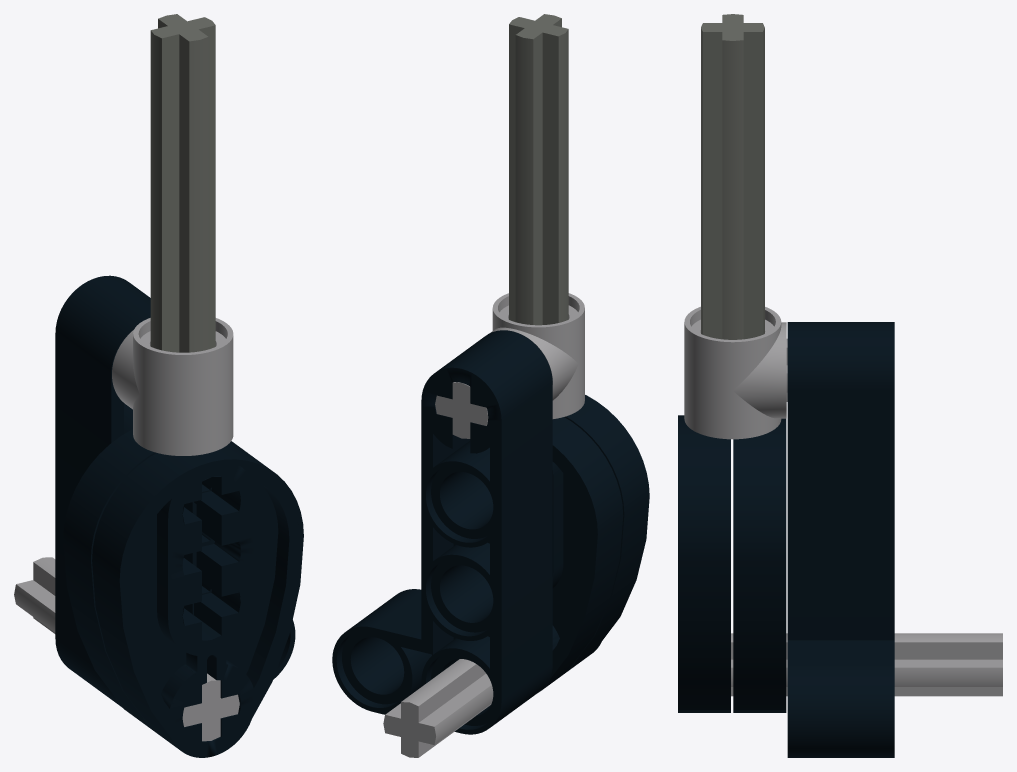
Rendered from linear_motion_2.glb.
The picture shows the model from 3 angles, left to right: view 1: azimuth 30°, elevation 25°; view 2: azimuth 150°, elevation 25°; view 3: azimuth 270°, elevation 25°; orthographic projection. The views are drawn at different scales.
Visible parts, largest first — view 1: 4519.dat, 87083.dat, 32140.dat, 22961.dat; view 2: 32140.dat, 4519.dat, 87083.dat, 22961.dat; view 3: 32140.dat, 4519.dat, 87083.dat, 22961.dat.
Part boxes in pixels (x1,y1,x2,y2): 4519.dat: (14,429,303,757); 87083.dat: (150,14,215,352); 32140.dat: (55,275,295,706); 22961.dat: (112,318,233,455); 32140.dat: (332,330,552,734); 4519.dat: (383,395,649,757); 87083.dat: (509,14,568,325); 22961.dat: (435,293,584,438); 32140.dat: (787,322,894,757); 4519.dat: (678,415,1002,712); 87083.dat: (701,14,764,339); 22961.dat: (684,306,787,439).
Size of the model in its own units: 0.4775 by 1.39 by 0.6004.
